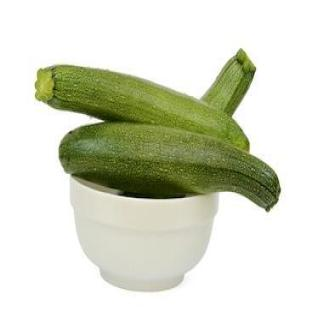Zucchini: (59, 123, 280, 211), (35, 65, 249, 149), (202, 50, 255, 115)
